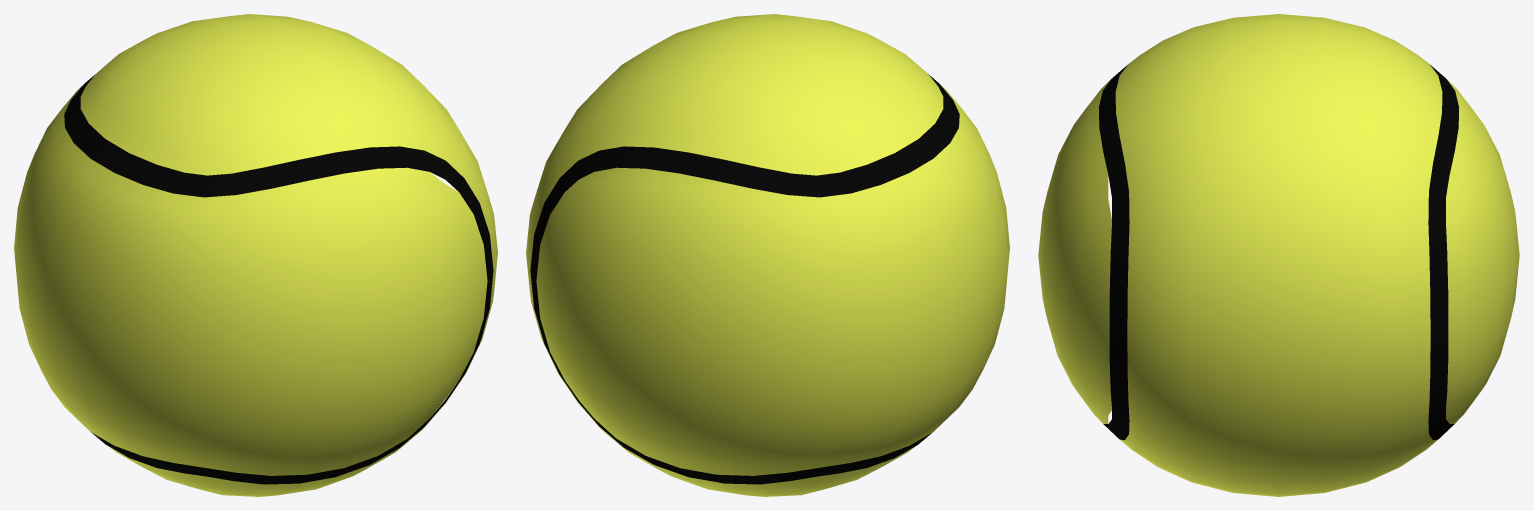
Rendered from Tennis_Ball.glb.
3 views of the same model, side by side, from view 1: azimuth 30°, elevation 25°; view 2: azimuth 150°, elevation 25°; view 3: azimuth 270°, elevation 25° (orthographic).
Parts seen in each view (by area): view 1: BALL, LINE; view 2: BALL, LINE; view 3: BALL, LINE.
Part boxes in pixels (x1,y1,x2,y2): BALL: (14, 14, 497, 496); LINE: (64, 75, 493, 484); BALL: (526, 14, 1009, 496); LINE: (530, 74, 959, 484); BALL: (1038, 14, 1519, 496); LINE: (1098, 65, 1459, 440).
Bounding box in the file's own units: 0.0634 × 0.0634 × 0.0634.
